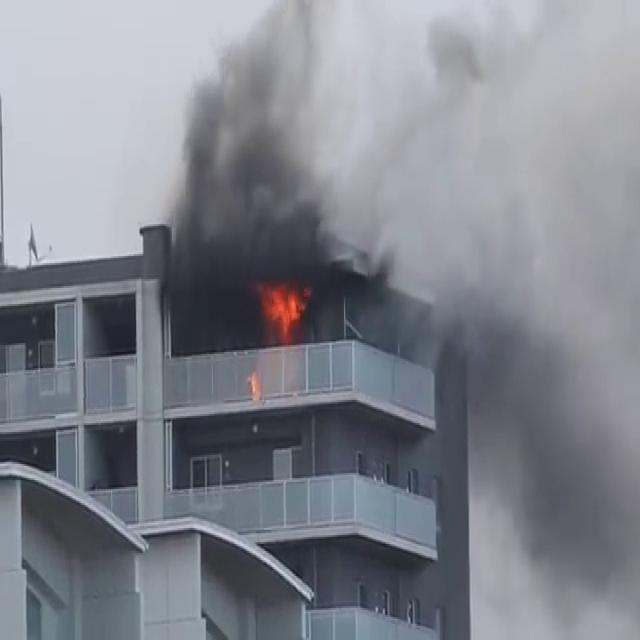Fire: (256, 274, 313, 339)
Smoke: (142, 0, 640, 368), (394, 0, 640, 626)
